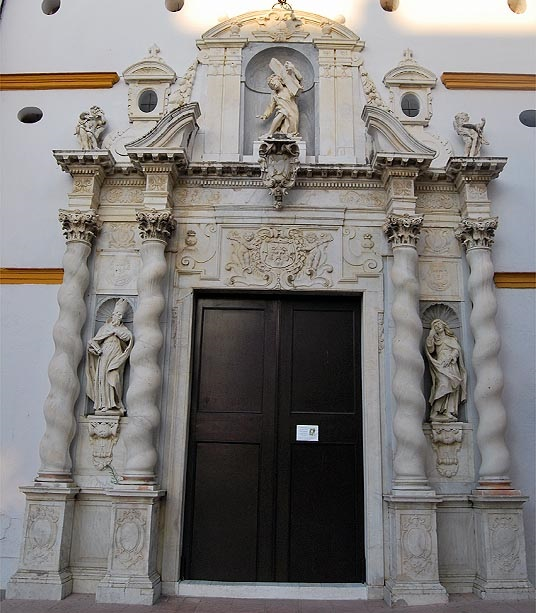columna-salomonica: (35, 243, 94, 472), (116, 243, 171, 476), (384, 244, 432, 495), (464, 248, 513, 484)
fronton-curvo: (123, 59, 176, 83), (383, 64, 437, 86)
fronton-partido: (125, 100, 437, 176), (194, 5, 367, 52)
vano-adintelado: (165, 266, 385, 595)
